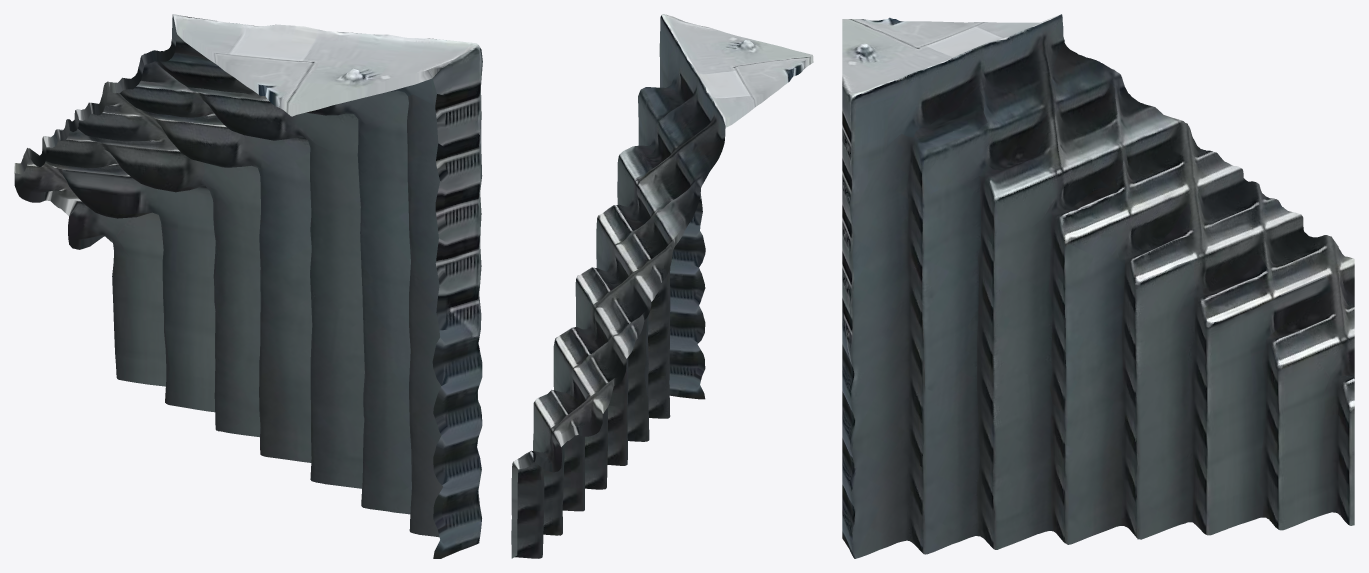
Rendered from z20-167785-405223-h1-yup-uvflip-v3-world.glb.
3 views of the same model, side by side, from view 1: azimuth 30°, elevation 25°; view 2: azimuth 150°, elevation 25°; view 3: azimuth 270°, elevation 25° (orthographic). The views are drawn at different scales.
Bounding box in the file's own units: 12.44 × 30.24 × 30.32.
Materials: 1 (1 with a texture image).
